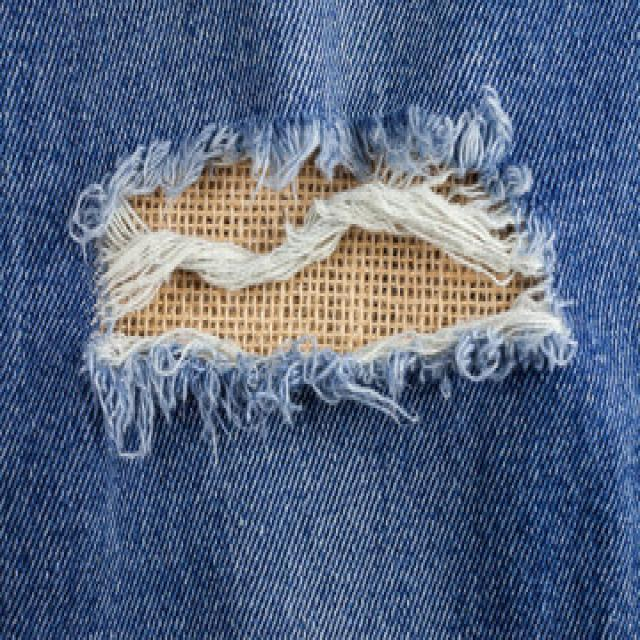Hole: (71, 88, 577, 457)
